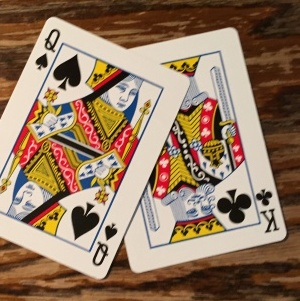card: (125, 26, 287, 275)
